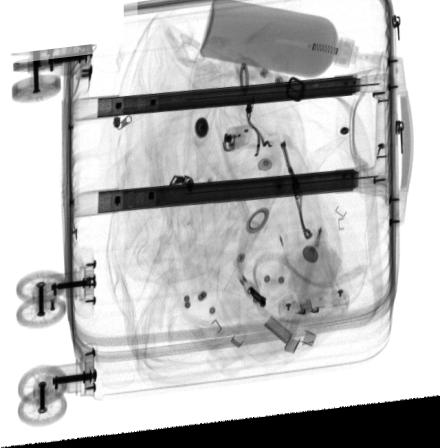Lighter: (221, 130, 255, 157)
